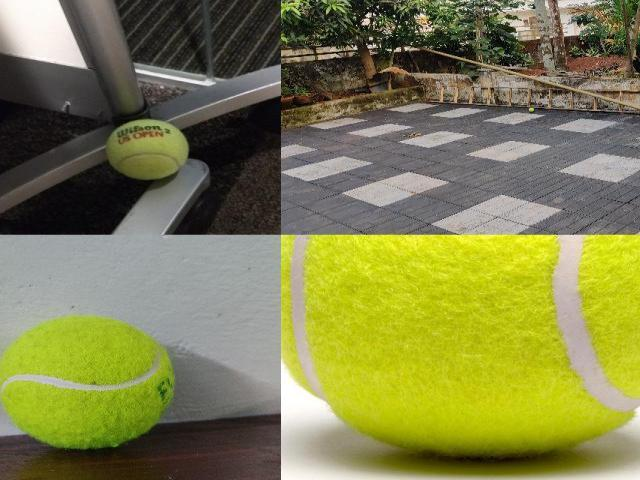tennis-ball: (281, 235, 639, 461), (0, 314, 175, 450), (105, 118, 189, 180), (528, 107, 534, 112)
